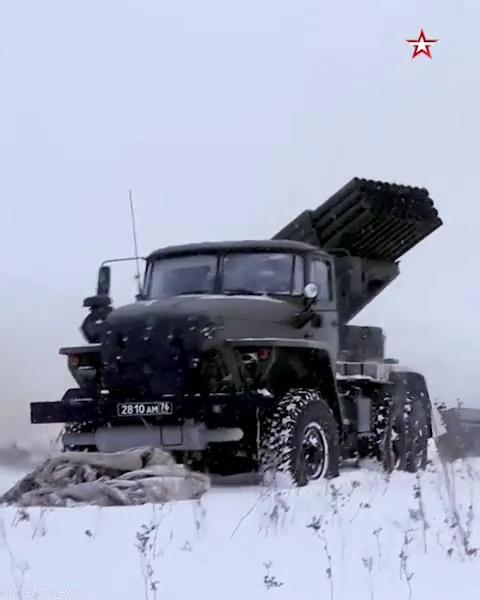MIL_SAM_TEL: (72, 179, 447, 497)
